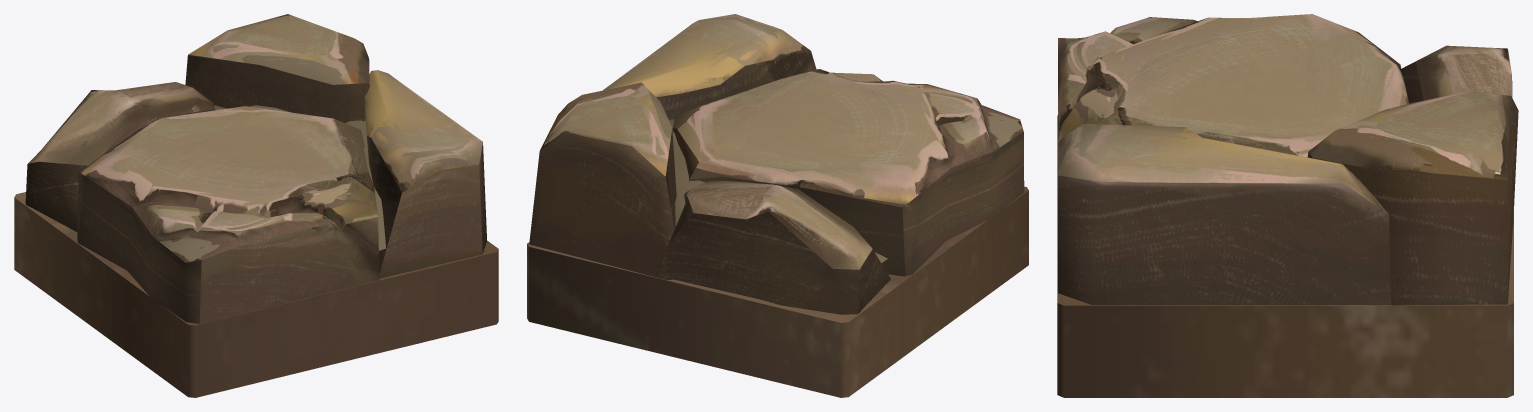
Rendered from S_survive_relic.fbx.
3 renders of one model, left to right at view 1: azimuth 30°, elevation 25°; view 2: azimuth 150°, elevation 25°; view 3: azimuth 270°, elevation 25°, orthographic. The views are drawn at different scales.
Parts seen in each view (by area): view 1: S_survive_relic; view 2: S_survive_relic; view 3: S_survive_relic.
Part boxes in pixels (box(x1,y1,x2,y2)): S_survive_relic: box(14, 14, 498, 397); S_survive_relic: box(527, 14, 1028, 397); S_survive_relic: box(1057, 14, 1518, 397).
Size of the model in its own units: 1 by 0.5821 by 1.01.
1 material, 1 textured.
